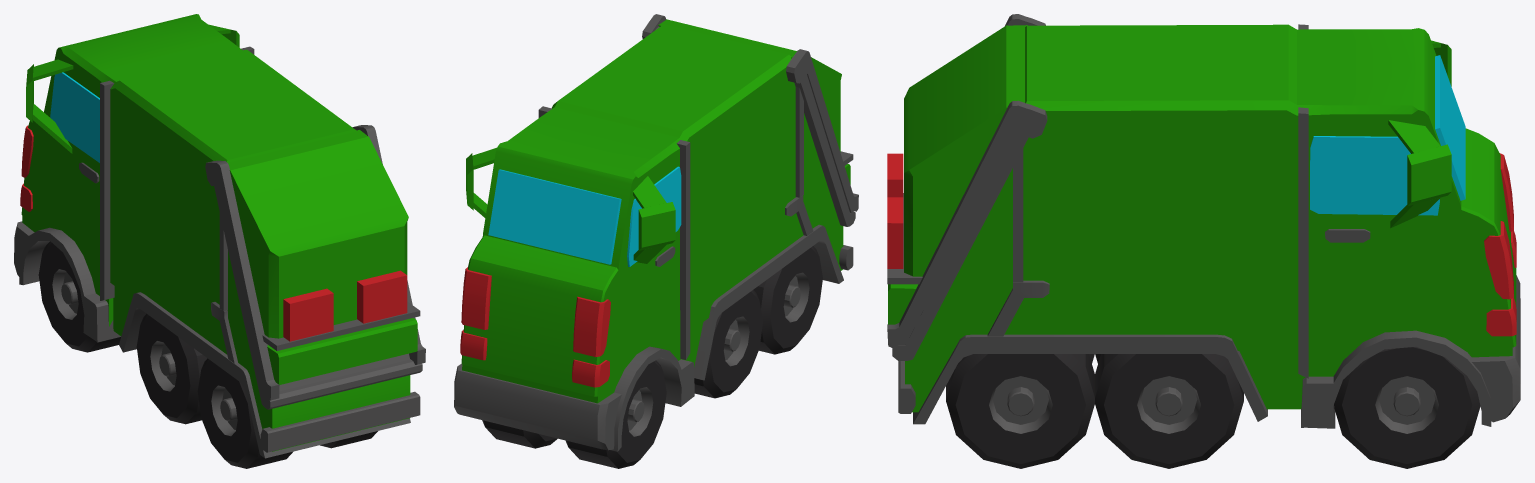
Rendered from GarbageTruck.fbx.
3 views of the same model, side by side, from view 1: azimuth 30°, elevation 25°; view 2: azimuth 150°, elevation 25°; view 3: azimuth 270°, elevation 25° (orthographic). The views are drawn at different scales.
Parts seen in each view (by area): view 1: Cube; view 2: Cube; view 3: Cube.
Part boxes in pixels (x1=…): Cube: x1=14, y1=14, x2=425, y2=468; Cube: x1=454, y1=14, x2=858, y2=468; Cube: x1=887, y1=14, x2=1520, y2=468.
Size of the model in its own units: 201 by 276 by 426.
